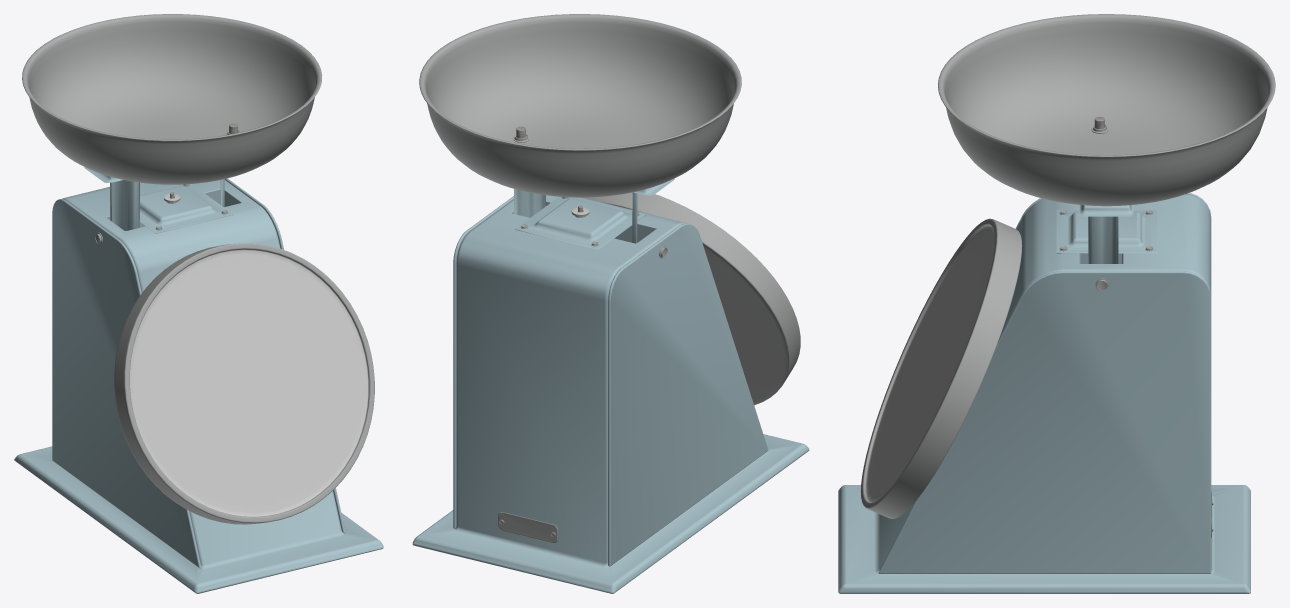
Rendered from kitchen scale.obj.
3 views of the same model, side by side, from view 1: azimuth 30°, elevation 25°; view 2: azimuth 150°, elevation 25°; view 3: azimuth 270°, elevation 25° (orthographic). The views are drawn at different scales.
Visible parts, largest first — view 1: scale_Cube.162; view 2: scale_Cube.162, Placker_Cube.001; view 3: scale_Cube.162.
Boxes of the visible parts, box(x1,y1,x2,y2) form: scale_Cube.162: box(14, 14, 383, 593); scale_Cube.162: box(412, 14, 809, 593); Placker_Cube.001: box(498, 512, 557, 542); scale_Cube.162: box(838, 14, 1275, 593).
Size of the model in its own units: 0.1685 by 0.2522 by 0.2182.
